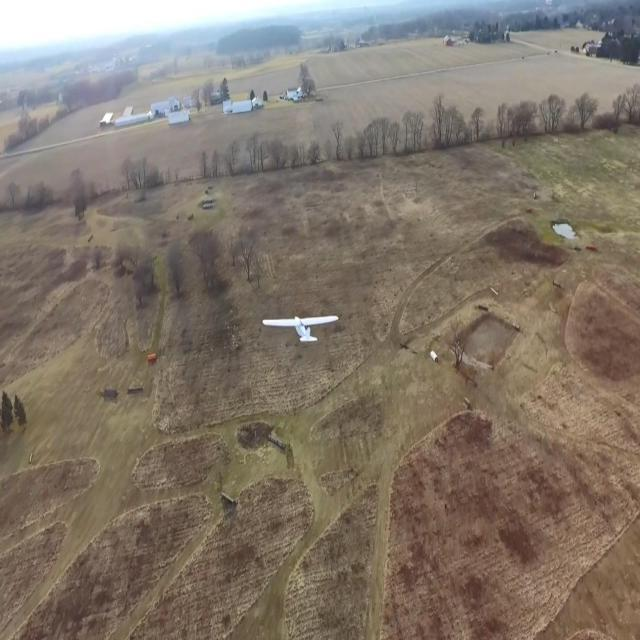iha: (292, 299, 313, 347)
